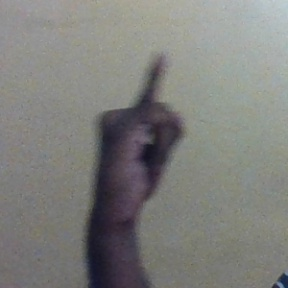I: (92, 49, 194, 221)
